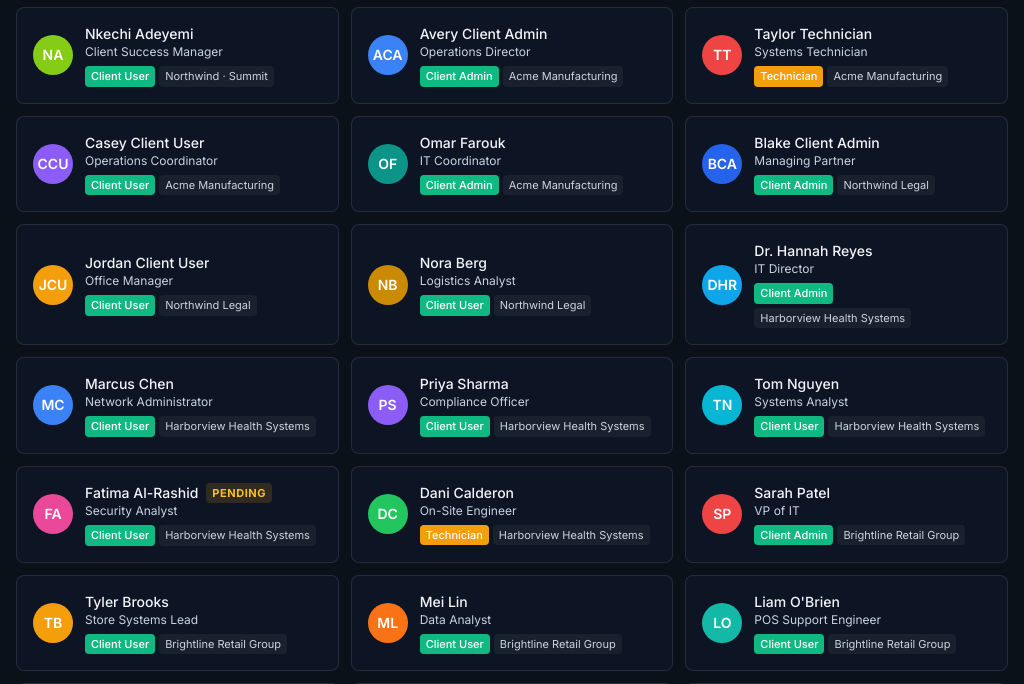
Scenario: TestAccountsPage › shows the error message when sign-in fails
(page scrolled)
Click the text "Marcus Chen".
click(130, 384)  # box x1=85 y1=374 x2=174 y2=394
(page scrolled)
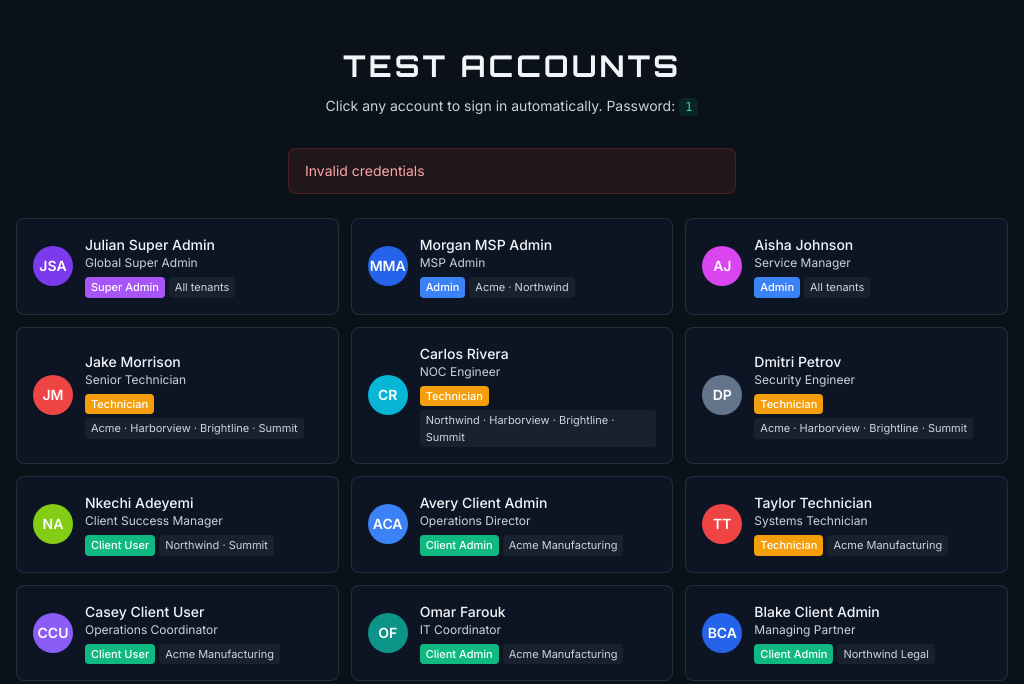
Now the text "Invalid credentials" is shown, box x1=288 y1=148 x2=736 y2=194
